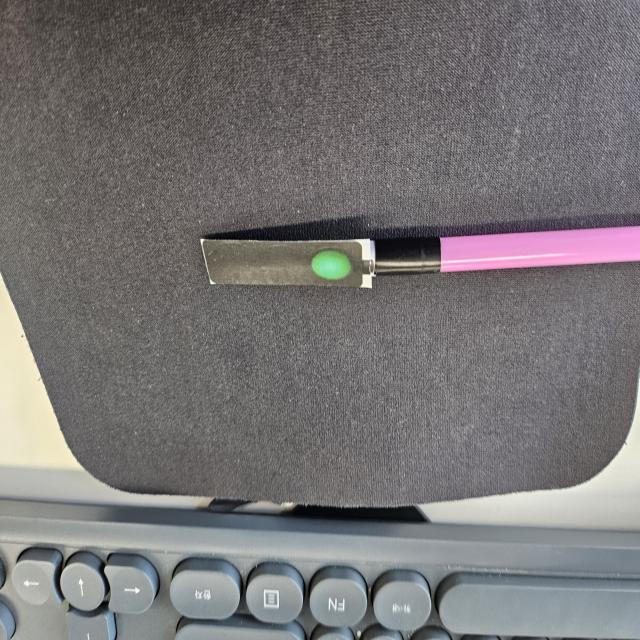traffic light: (202, 239, 376, 293)
